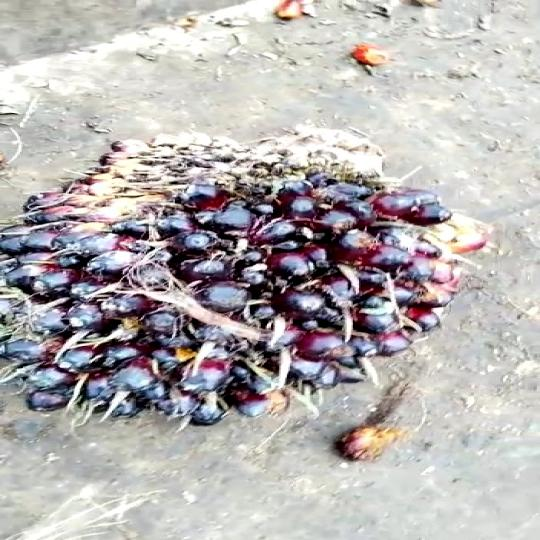mentah: (0, 117, 471, 428)
